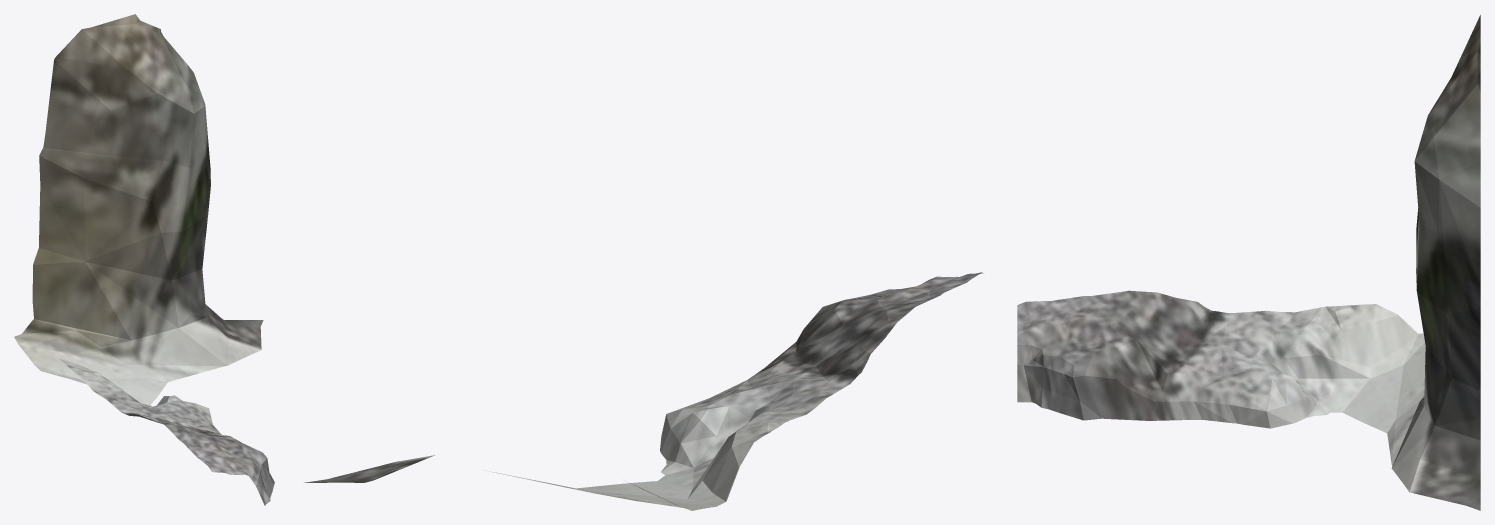
3 renders of one model, left to right at view 1: azimuth 30°, elevation 25°; view 2: azimuth 150°, elevation 25°; view 3: azimuth 270°, elevation 25°, orthographic. The views are drawn at different scales.
Size of the model in its own units: 0.6105 by 0.788 by 0.8374.
Materials: 2 (2 with a texture image).
